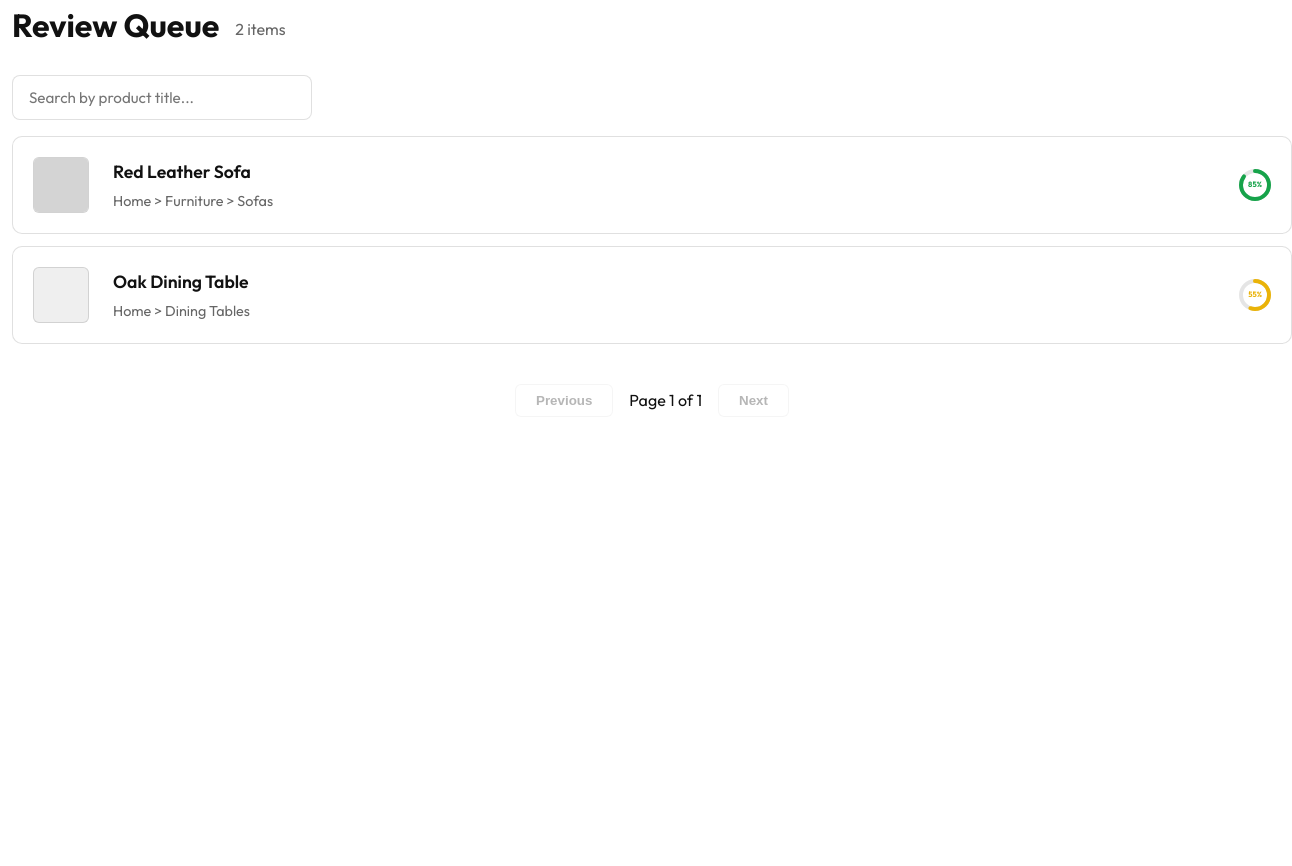
Test: ReviewPage expand and resolve › expands a row on click to show detail actions and alternatives
Click the text "Red Leather Sofa".
click(182, 171)  # box [113, 160, 251, 183]
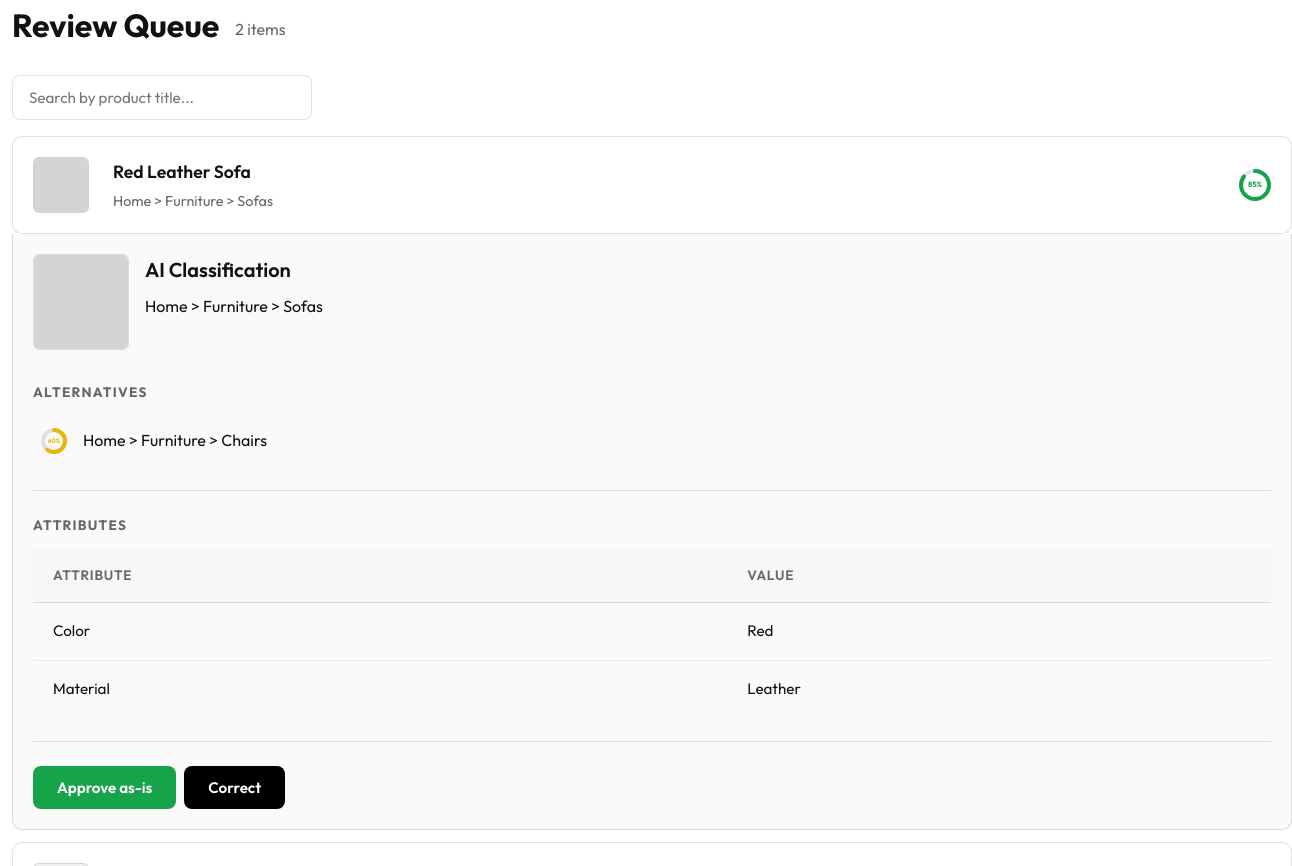
Now the button "Approve as-is" is shown, box [33, 766, 176, 809]
Now the button "Correct" is shown, box [184, 766, 285, 809]
Now the heading "Alternatives" is shown, box [33, 383, 148, 401]
